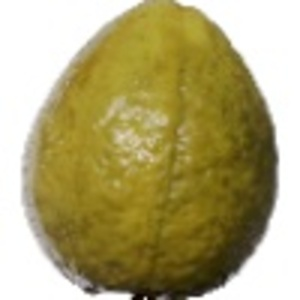goiaba: (13, 1, 281, 298)
